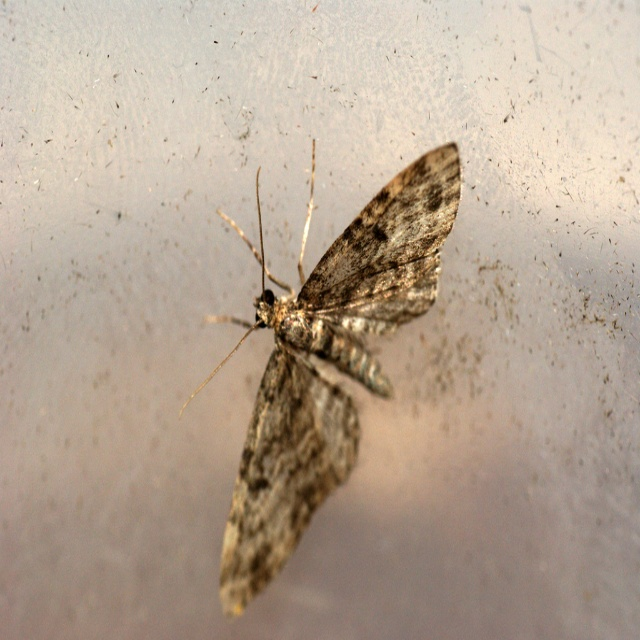Butterfly: (177, 137, 463, 618)
